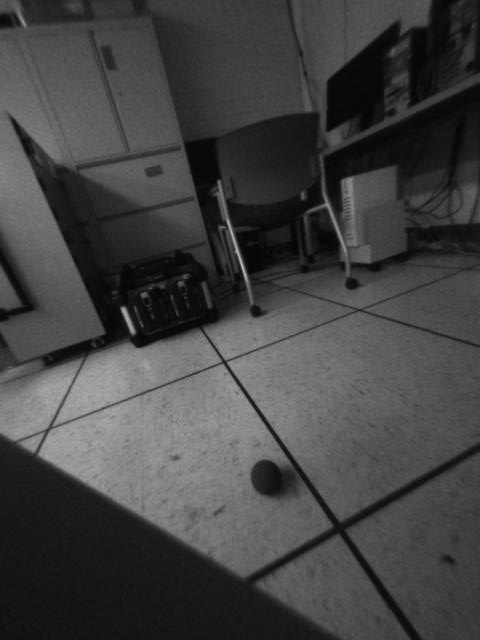dogtoy: (243, 450, 290, 506)
